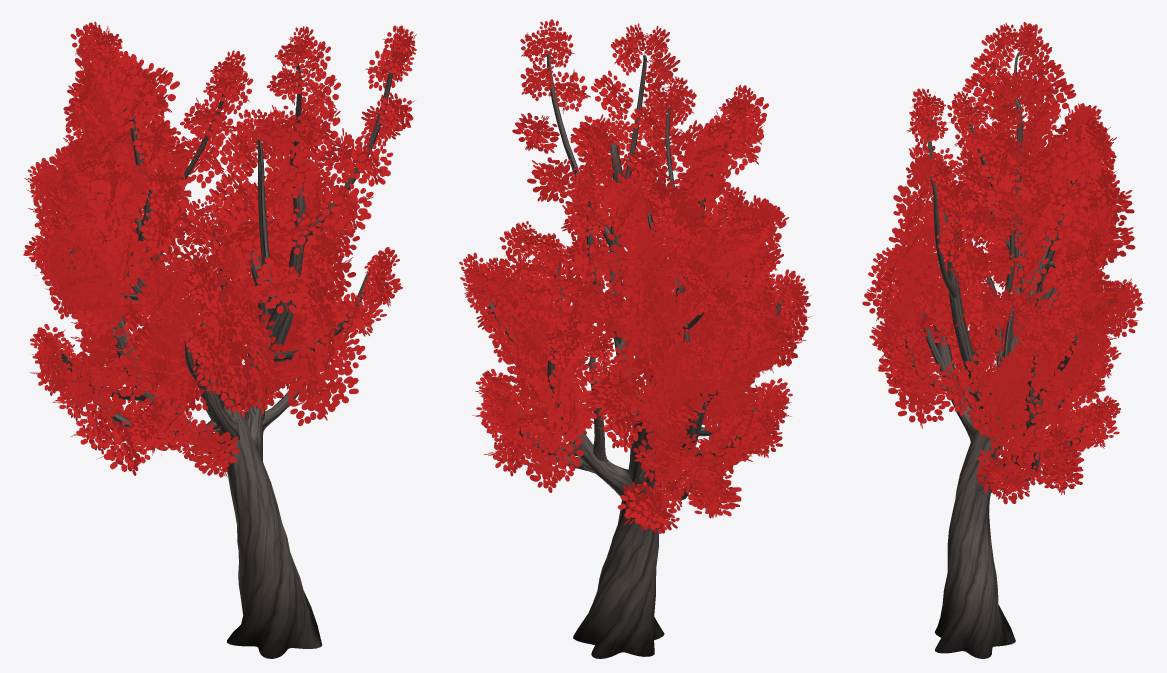
The model's file is TwistedTree_2.glb.
3 views of the same model, side by side, from view 1: azimuth 30°, elevation 25°; view 2: azimuth 150°, elevation 25°; view 3: azimuth 270°, elevation 25° (orthographic). The views are drawn at different scales.
Bounding box in the file's own units: 10.56 × 18.95 × 9.2.
2 materials, 2 textured.
